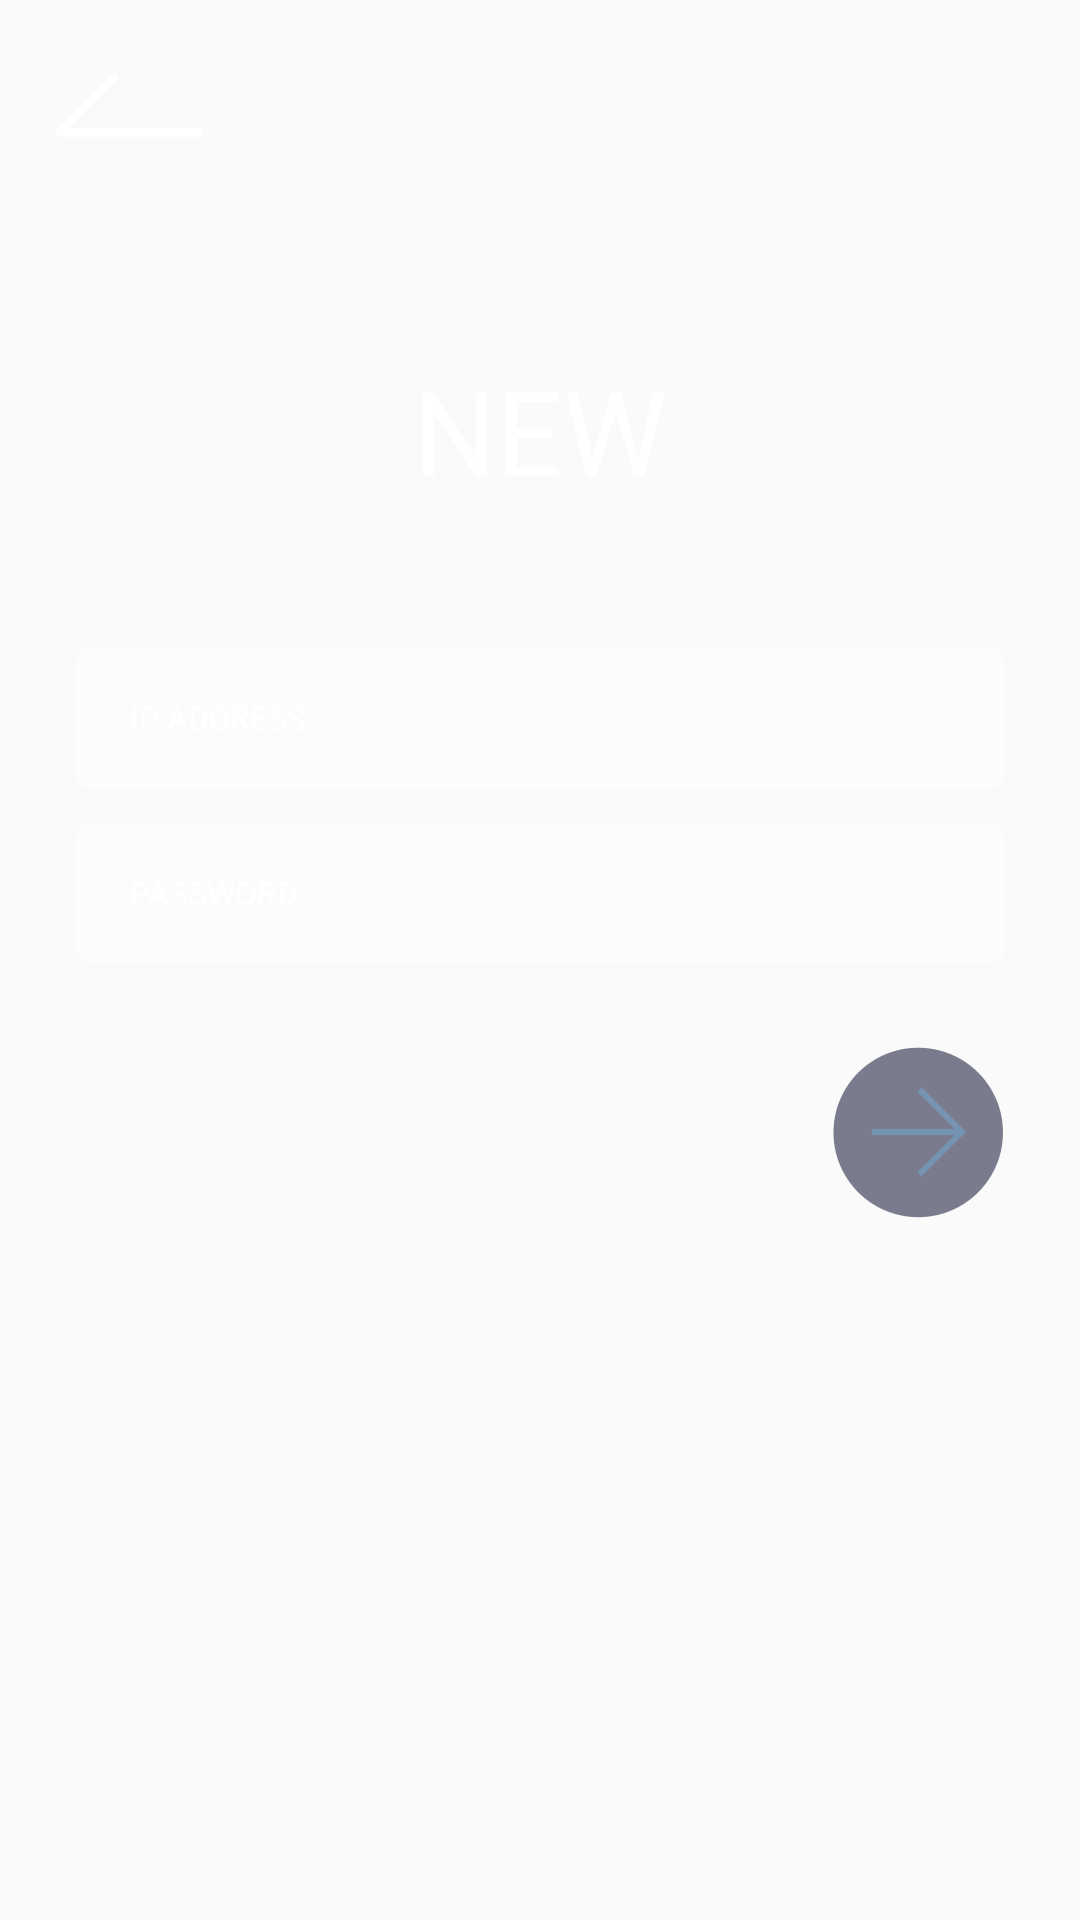

Icons on this 1080 x 1920 Android screen, each with its box as (x1, y1, x2, y2):
next: (833, 1047, 1003, 1218)
